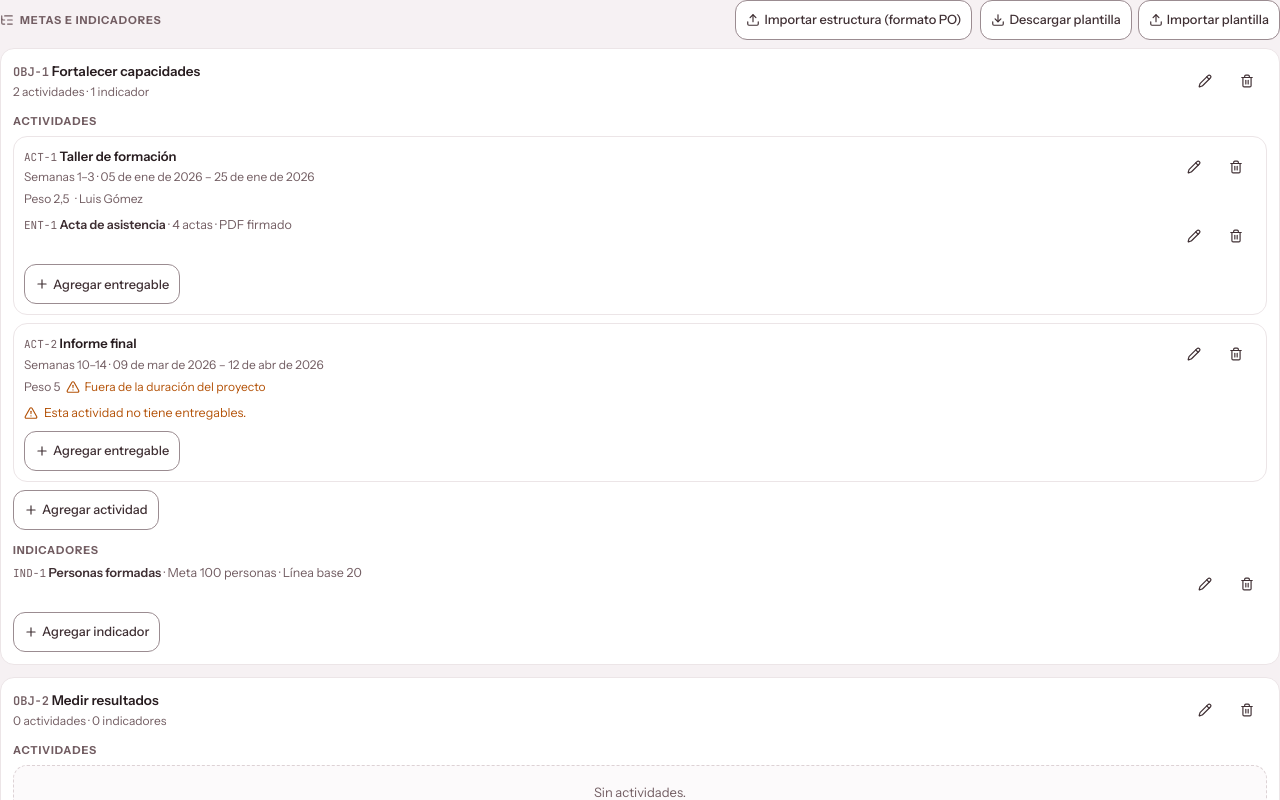
Test: ProjectEstructura › deliverables › asks before deleting and keeps the deliverable when the user cancels
Click the button named "Eliminar entregable ENT-1".
click(1236, 236)  # box left=1216, top=216, right=1256, bottom=256
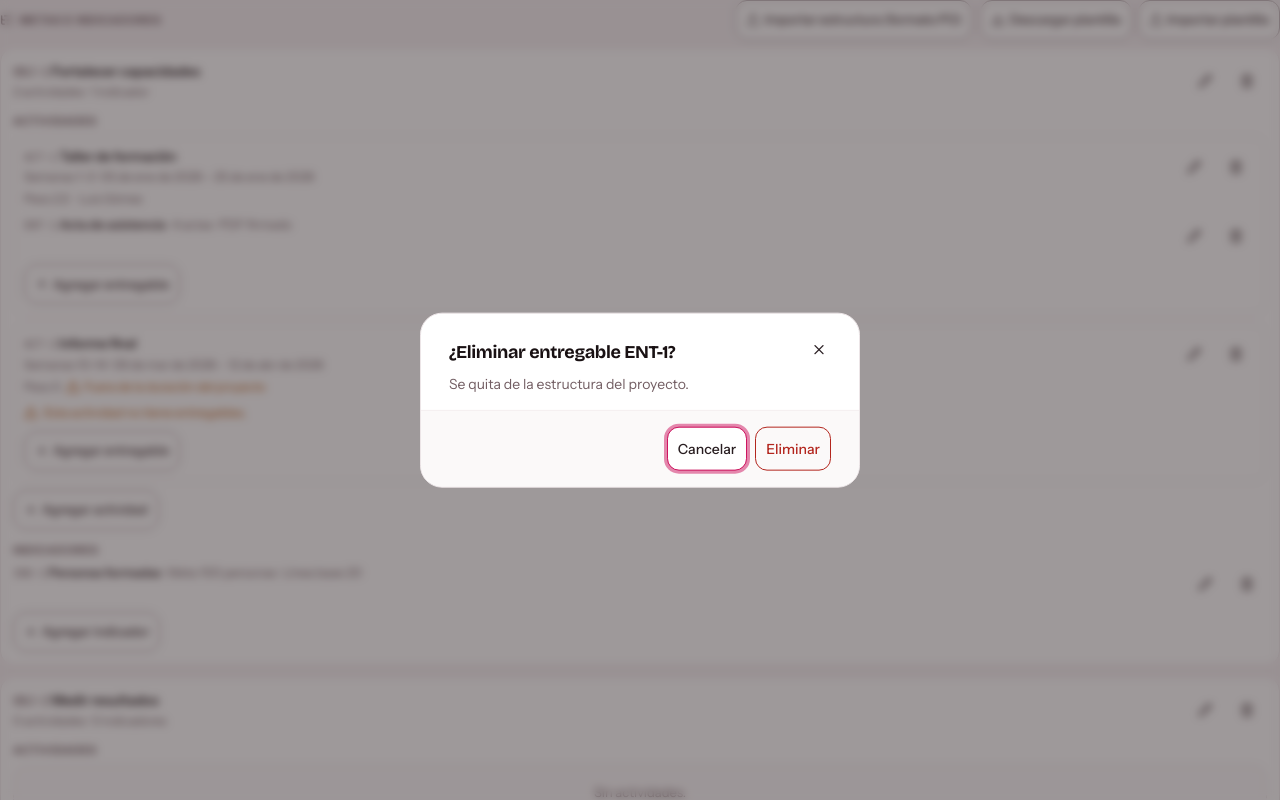
Click the button "Cancelar".
click(707, 448)  # box left=667, top=426, right=747, bottom=470
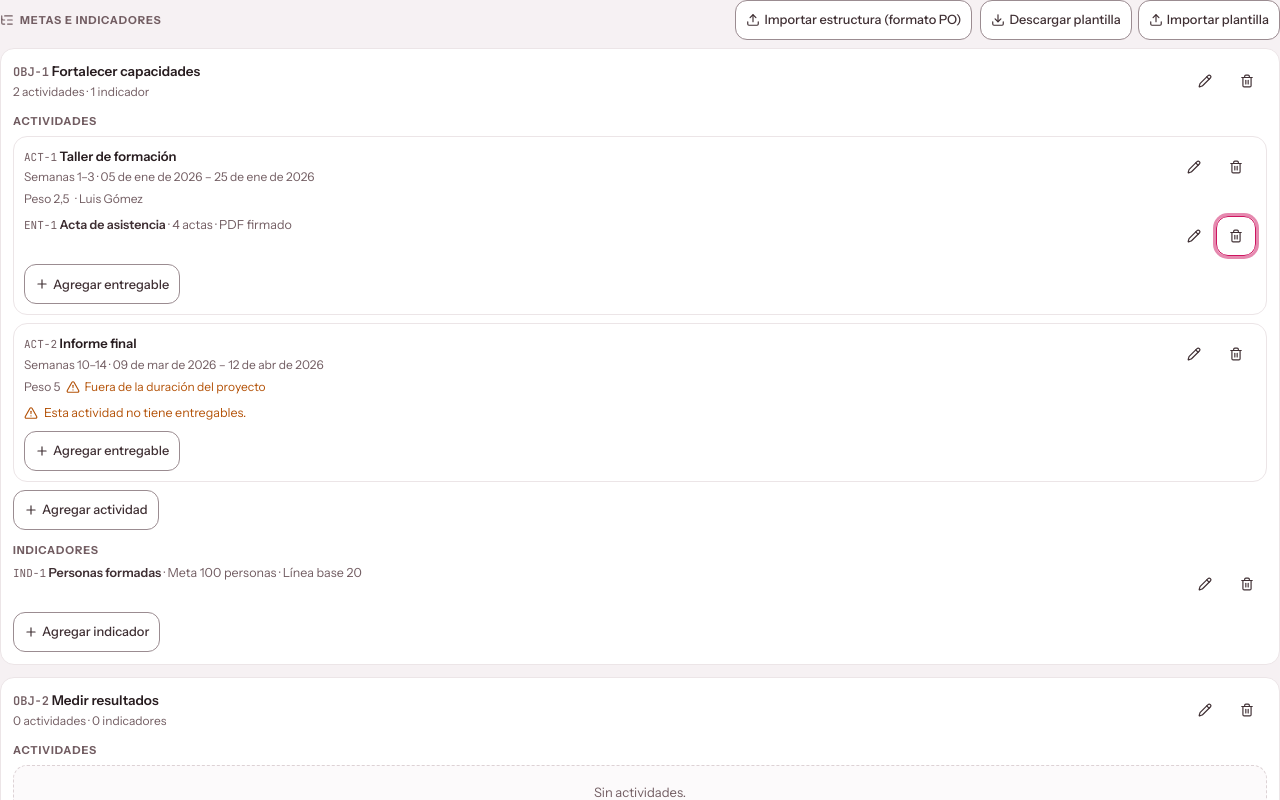
Check: the dialog is gone
